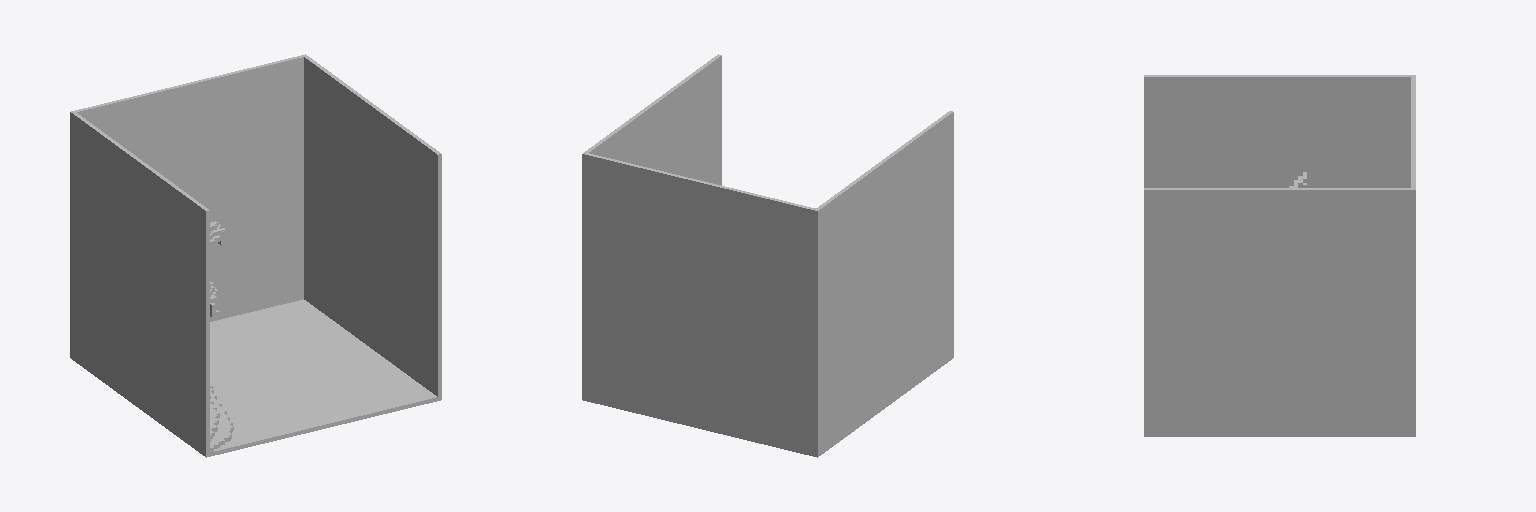
The model's file is wiped out.obj.
The picture shows the model from 3 angles: view 1: azimuth 30°, elevation 25°; view 2: azimuth 150°, elevation 25°; view 3: azimuth 270°, elevation 25°; orthographic projection.
Parts seen in each view (by area): view 1: object 1; view 2: object 1; view 3: object 1.
Part boxes in pixels (x1,y1,x2,y2): object 1: (70, 54, 441, 457); object 1: (582, 54, 953, 457); object 1: (1144, 75, 1415, 436).
Size of the model in its own units: 6 by 6 by 6.